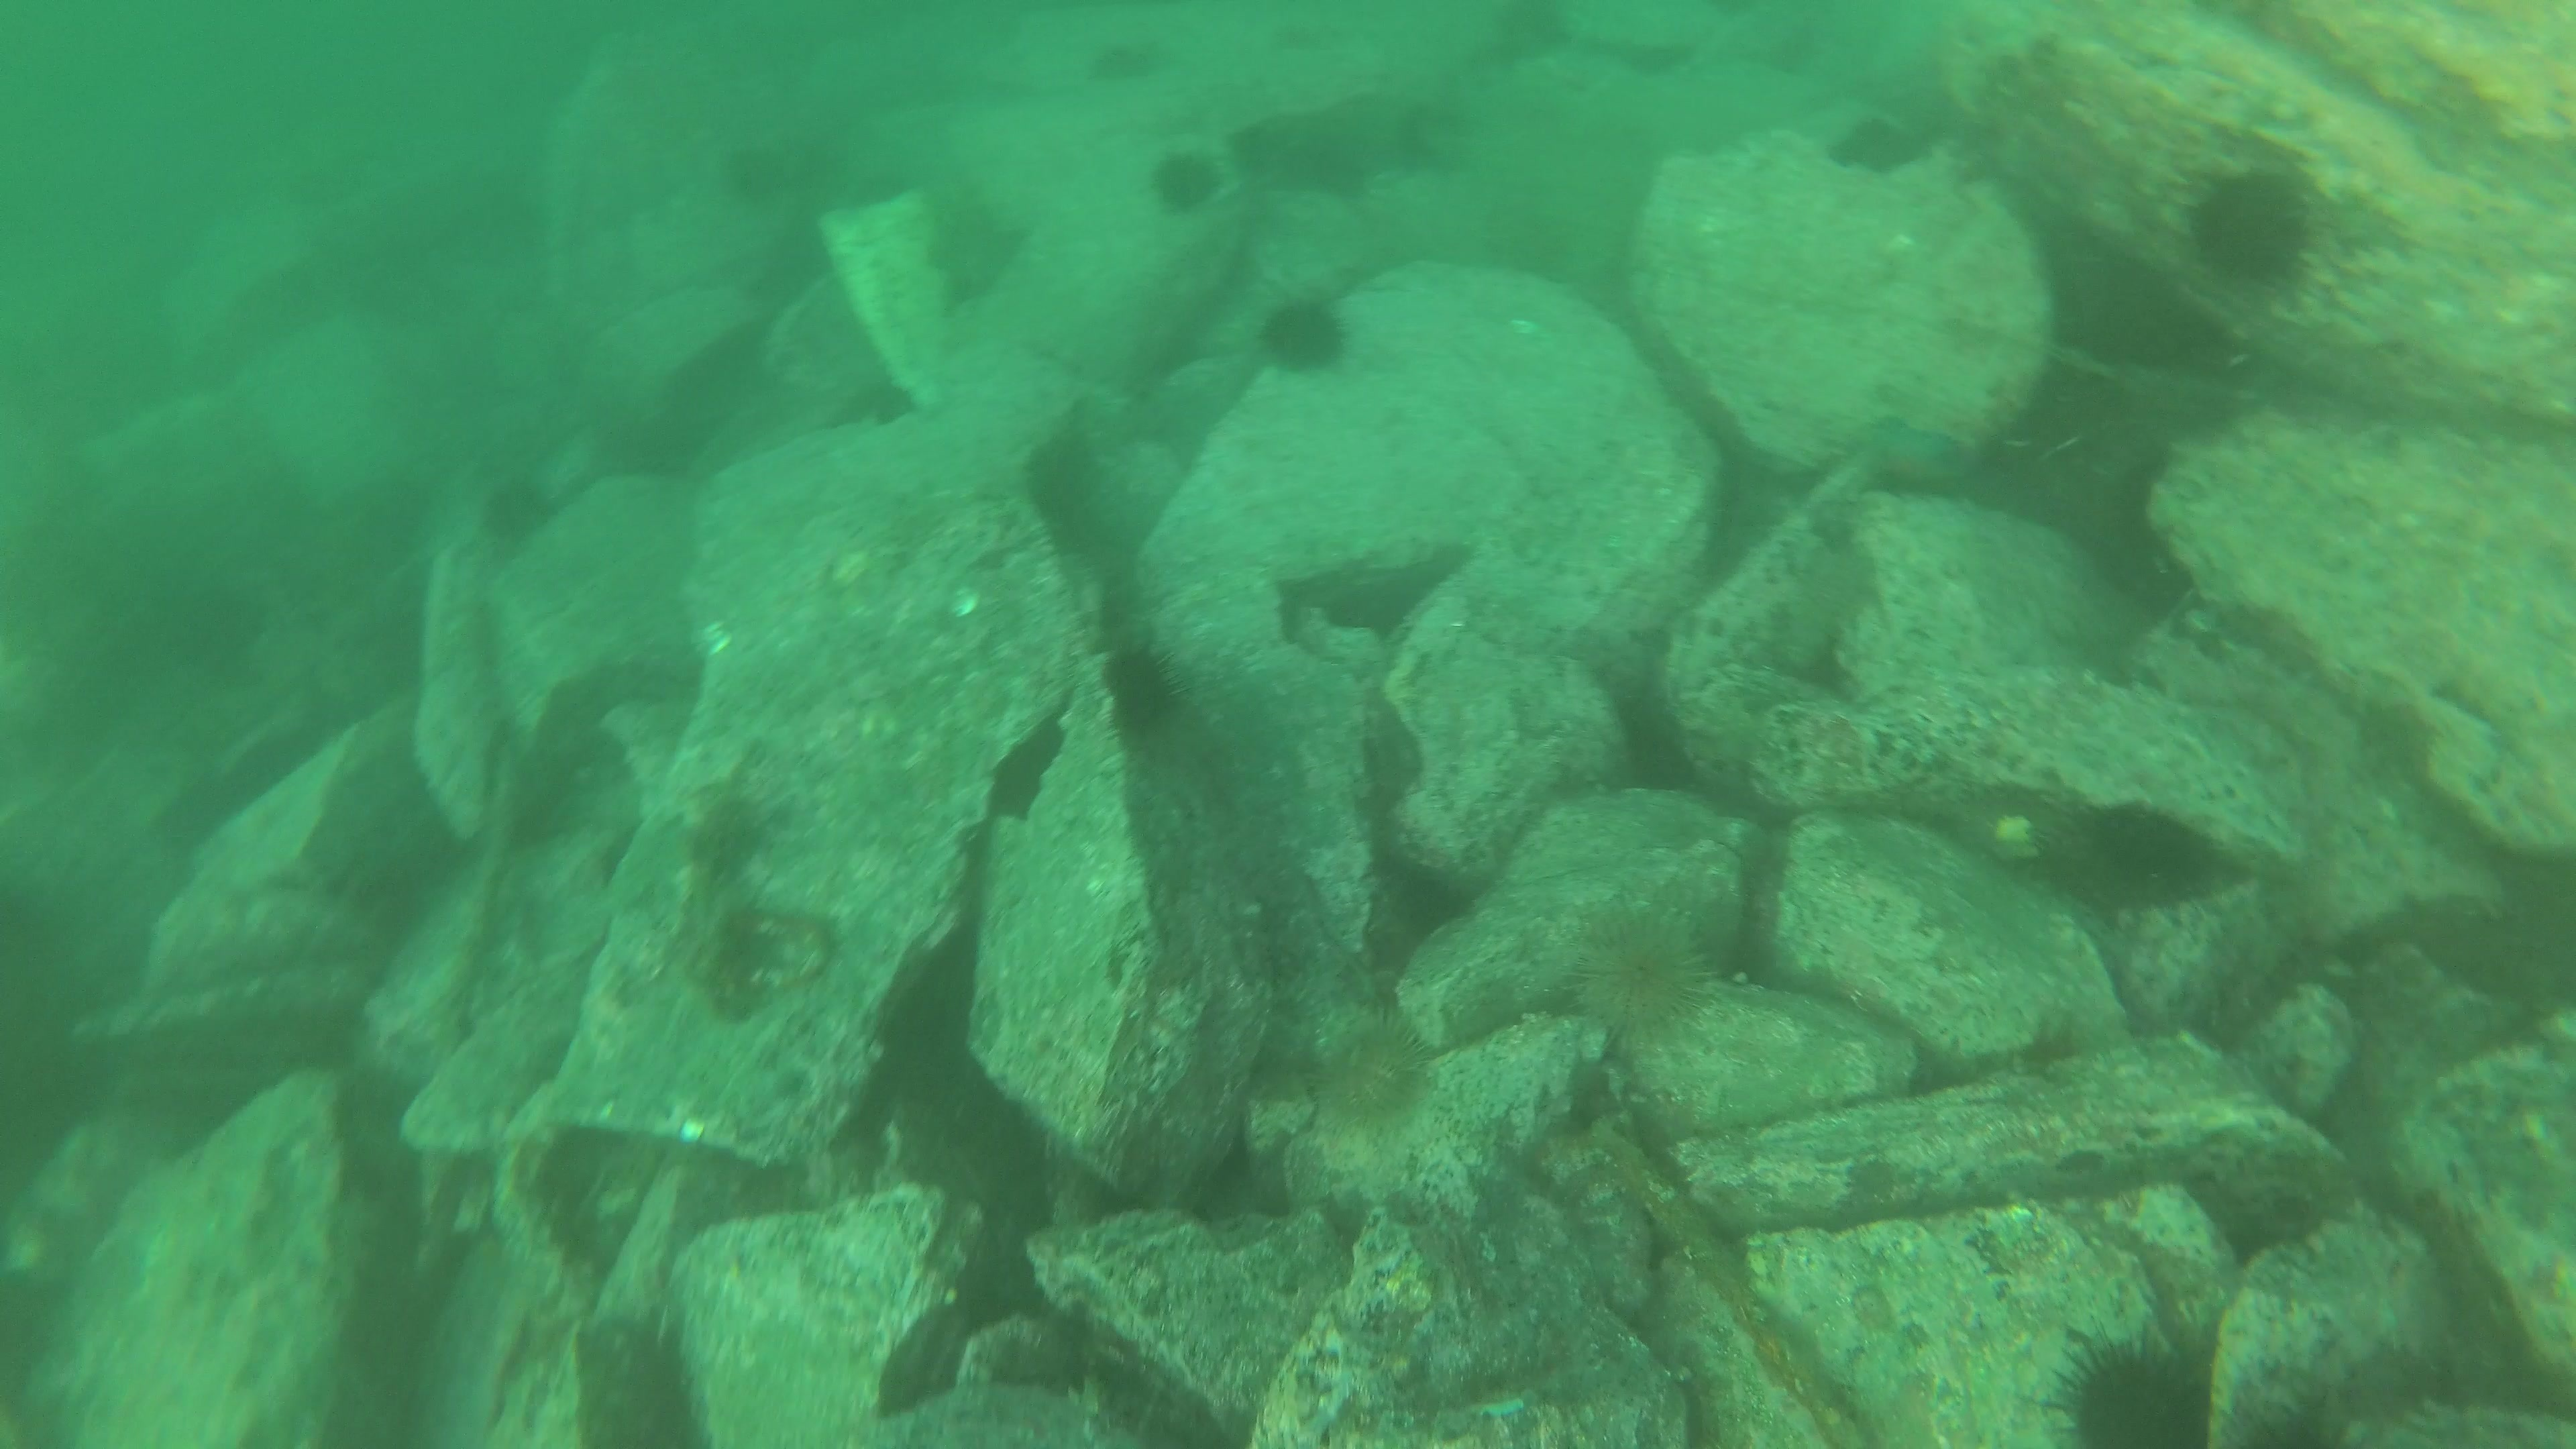echinus: (2035, 1316, 2217, 1449), (1557, 901, 1723, 1033), (2171, 156, 2319, 290), (1805, 65, 1951, 200), (1295, 1000, 1435, 1127), (1104, 644, 1198, 741), (469, 458, 563, 556), (688, 113, 782, 211), (1063, 7, 1155, 106), (1260, 292, 1355, 372), (1139, 142, 1230, 216)
